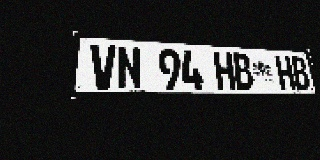4: (180, 49, 204, 90)
9: (158, 48, 182, 90)
B: (232, 53, 254, 90), (290, 56, 311, 90)
H: (213, 52, 236, 90), (274, 55, 296, 90)
N: (117, 46, 142, 90)
V: (90, 44, 116, 90)
